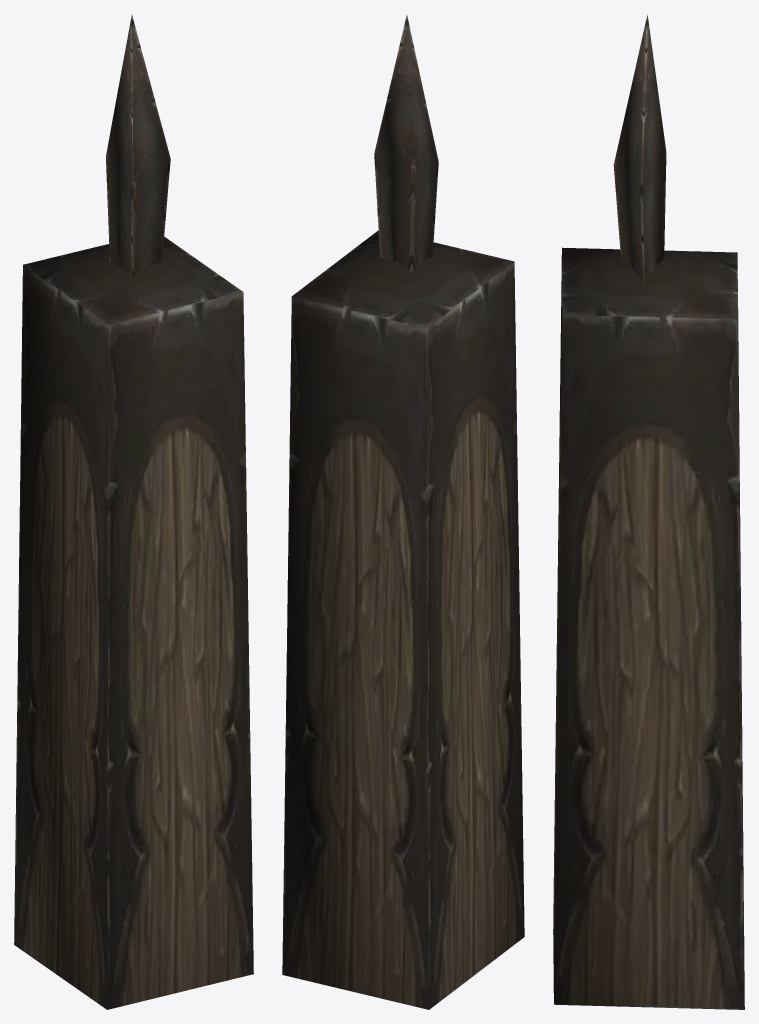
3 renders of one model, left to right at view 1: azimuth 30°, elevation 25°; view 2: azimuth 150°, elevation 25°; view 3: azimuth 270°, elevation 25°, orthographic.
Bounding box in the file's own units: 0.5459 × 3.34 × 0.6049.
Materials: 1 (1 with a texture image).
